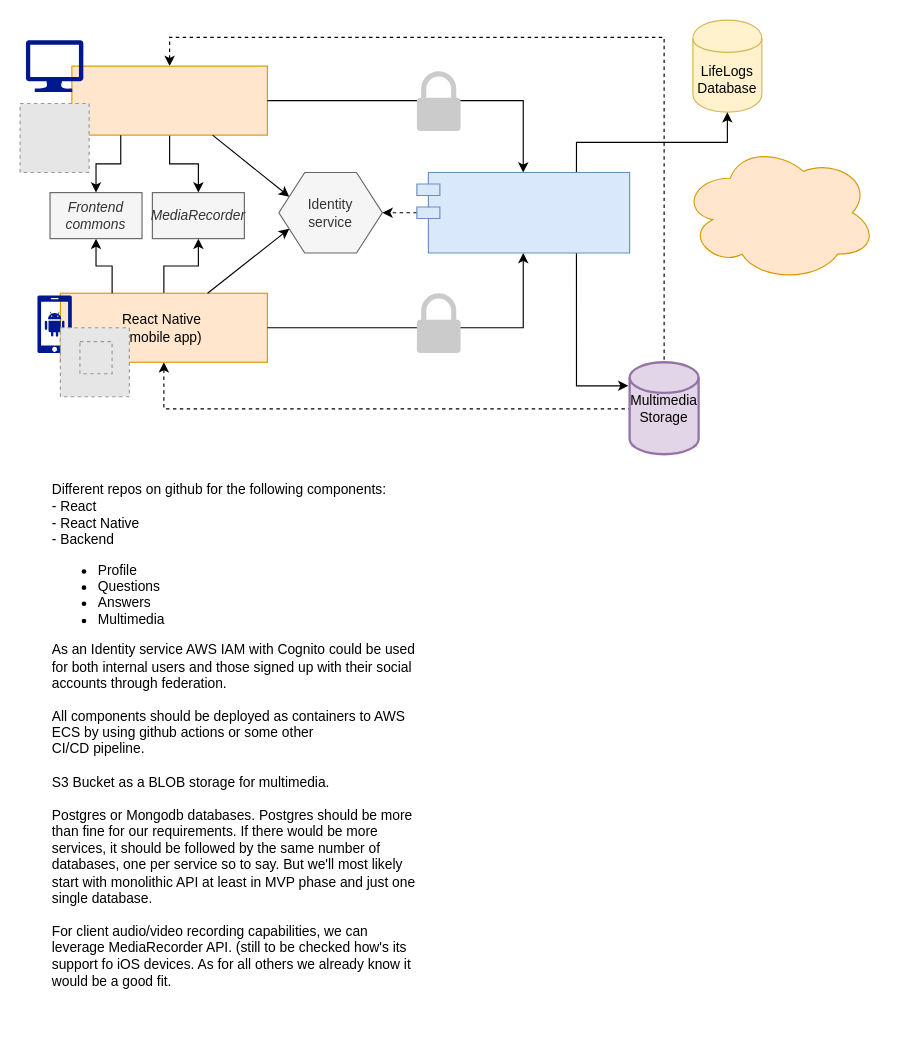
Image size: 897x1043. Some labels were removed from this diagram. Grey dashed boxes stand in for pictures. Here are the shapes that lost their labels. From the top down, the box of each, then its label:
(71, 65, 267, 135): React (mobile first)
(416, 171, 630, 253): API Backend service(s)
(680, 143, 877, 282): Powered by AWS
